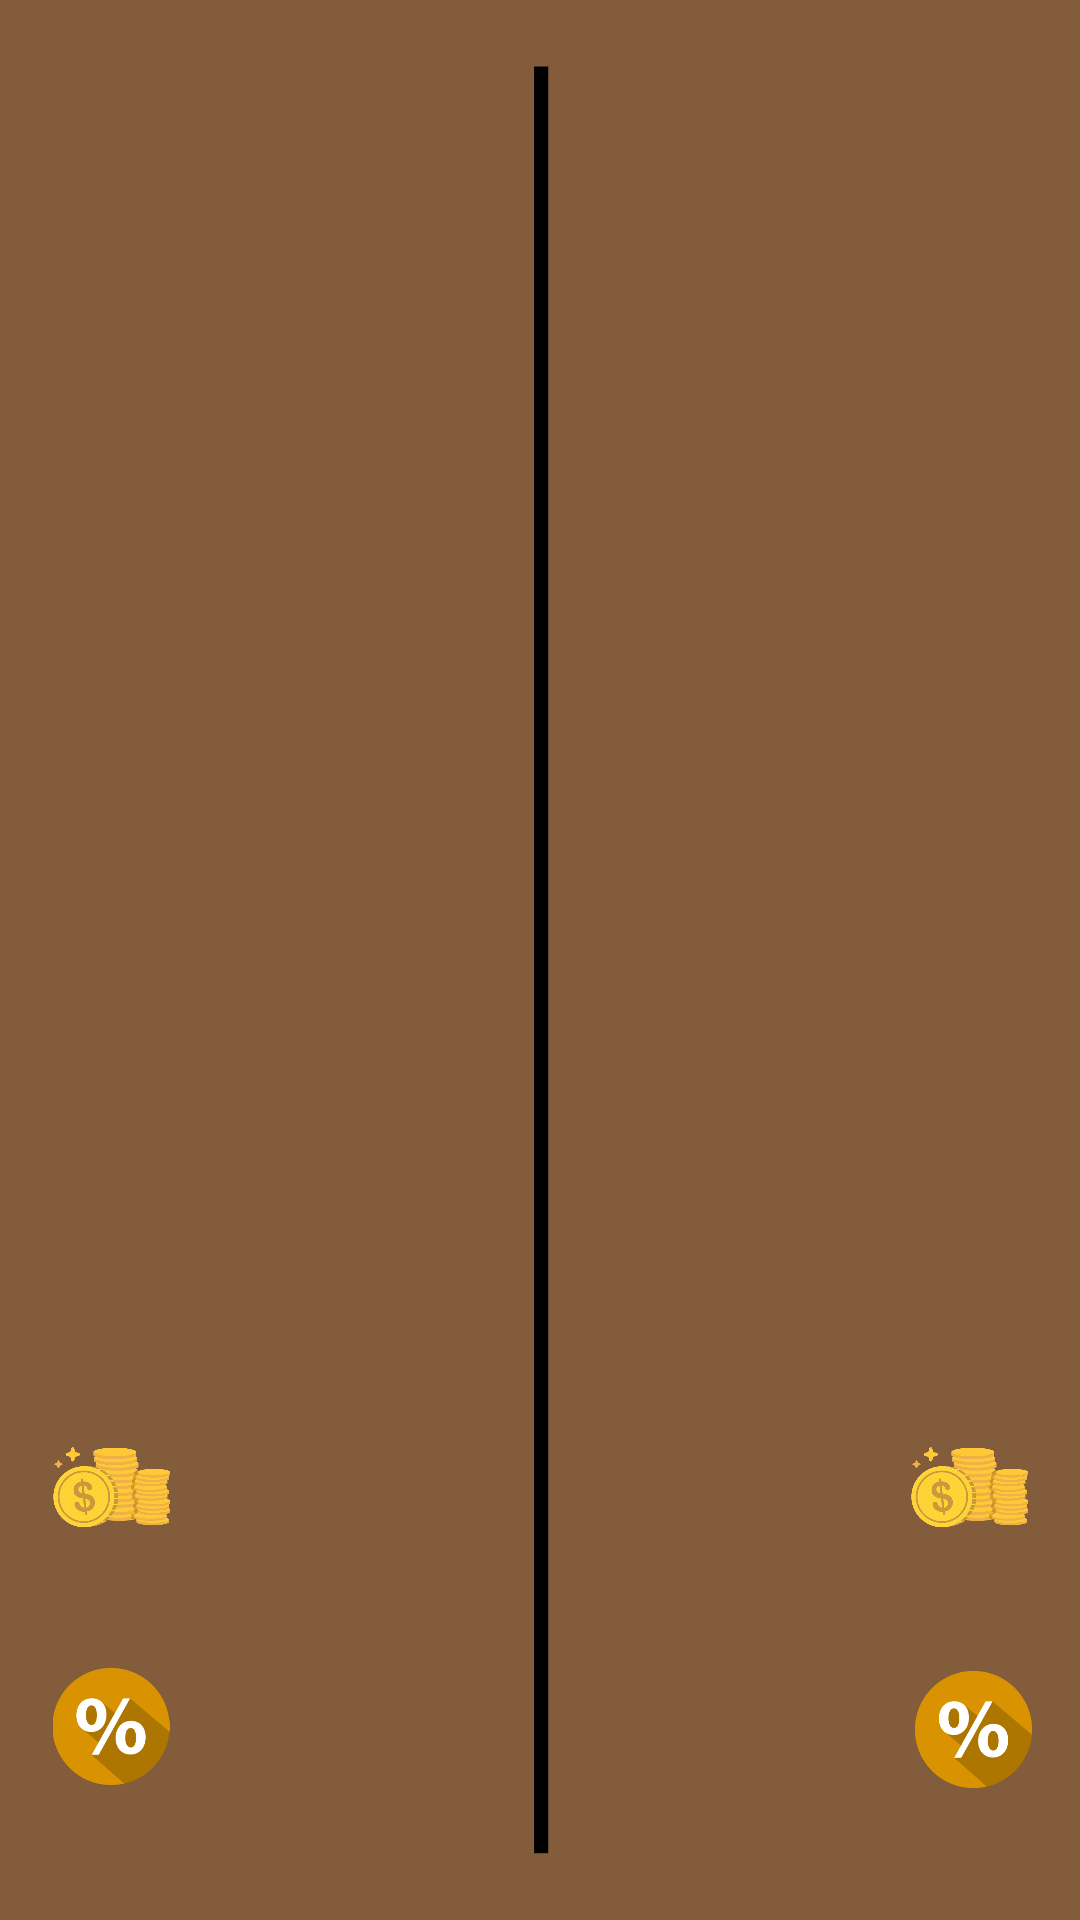

Where to tap for icons on this 1080 x 1920 app screen, as (x,y):
gold coin: (111,1487), (969,1487)
percent: (111,1726), (973,1729)
